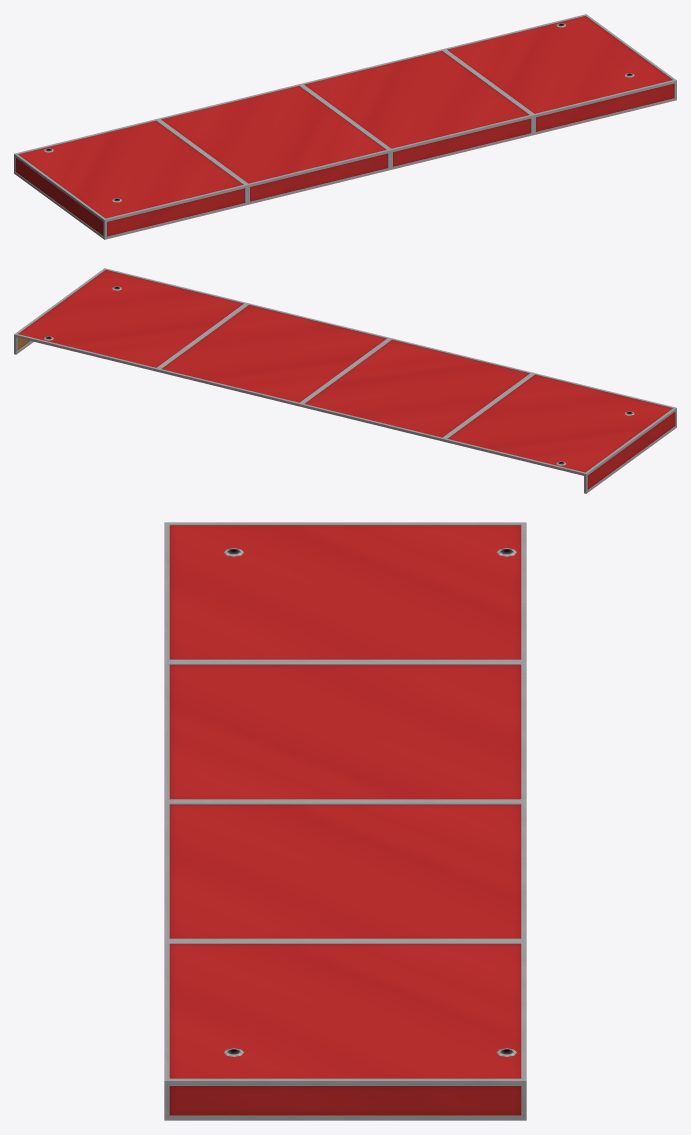
Rendered from jsf_4P_s04_c06_t01_DX.fbx.
3 renders of one model, top to bottom at view 1: azimuth 30°, elevation 25°; view 2: azimuth 150°, elevation 25°; view 3: azimuth 270°, elevation 25°, orthographic. The views are drawn at different scales.
Parts seen in each view (by area): view 1: jsf_4P_s04_c06_t01_DX; view 2: jsf_4P_s04_c06_t01_DX; view 3: jsf_4P_s04_c06_t01_DX.
Boxes of the visible parts, <box> form: jsf_4P_s04_c06_t01_DX: <box>14,14,676,239</box>; jsf_4P_s04_c06_t01_DX: <box>14,268,676,493</box>; jsf_4P_s04_c06_t01_DX: <box>164,522,526,1120</box>.
Bounding box in the file's own units: 378 × 12.99 × 104.
